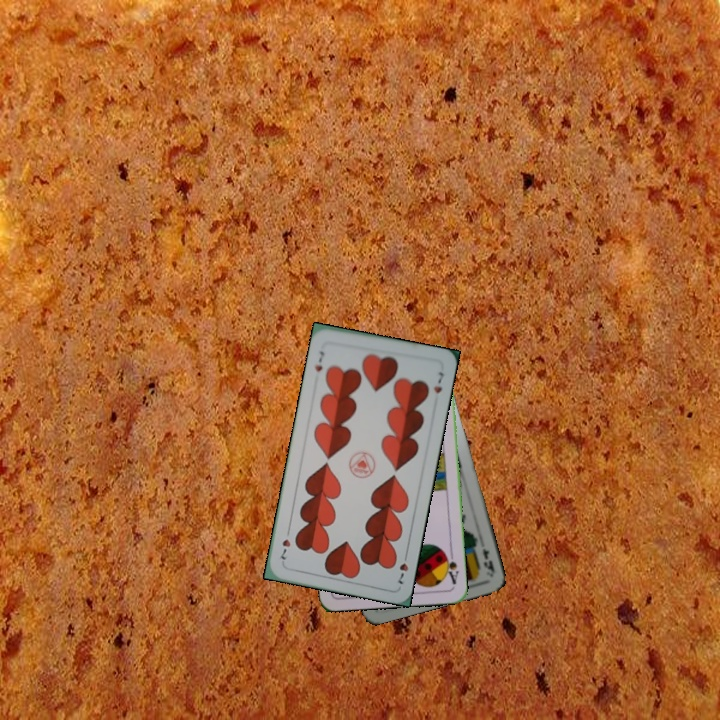EK: (479, 544, 497, 577)
H7: (394, 548, 411, 587), (310, 347, 327, 374)
SA: (441, 547, 461, 587)
